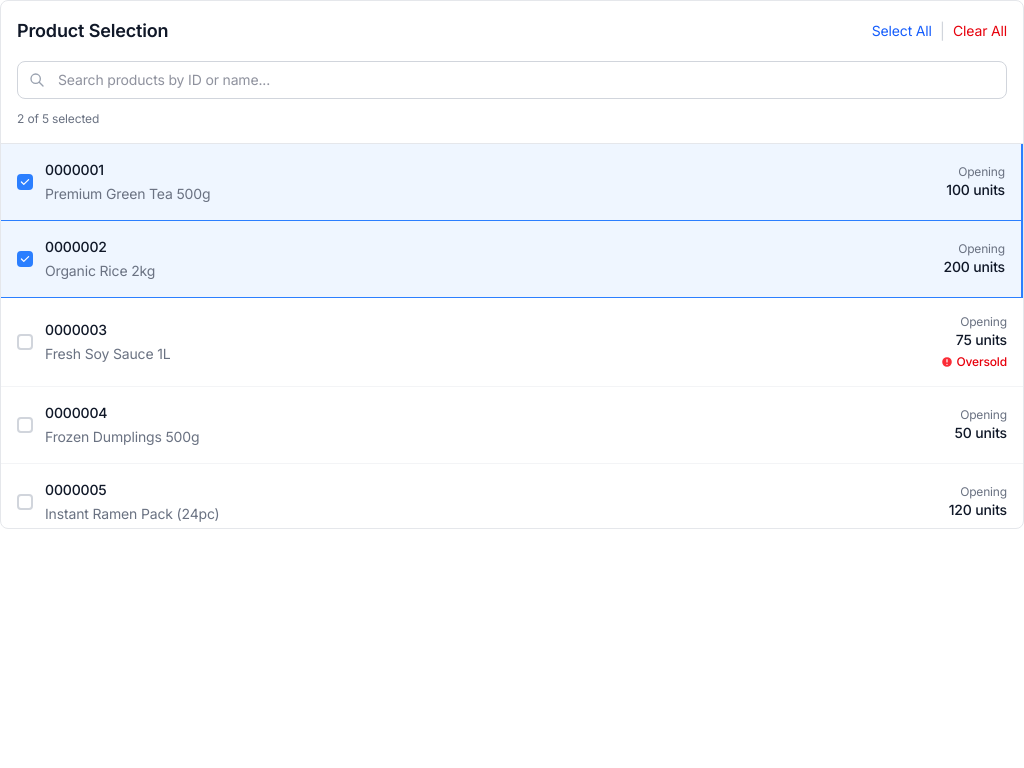
Scenario: ProductSelector › Accessibility and UX › should show proper selection count with filtered results
This screenshot has width=1024, height=768.
Expected: the text "2 of 5 selected" is shown, [17,111,99,127]
Filter results
Type "tea" into the field with placeholder "Search products by ID or name..." at [512, 80], box [17,61,1007,99]
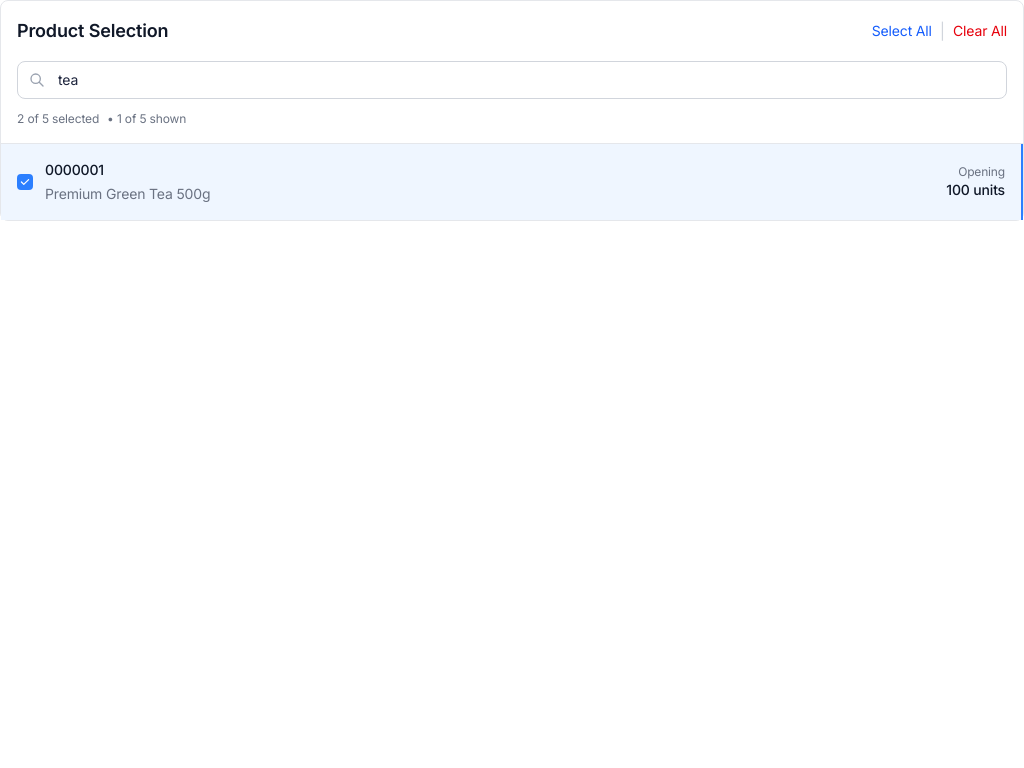
Expected: the text "2 of 5 selected" is shown, [17,111,99,127]
Expected: the text "• 1 of 5 shown" is shown, [107,111,186,127]
